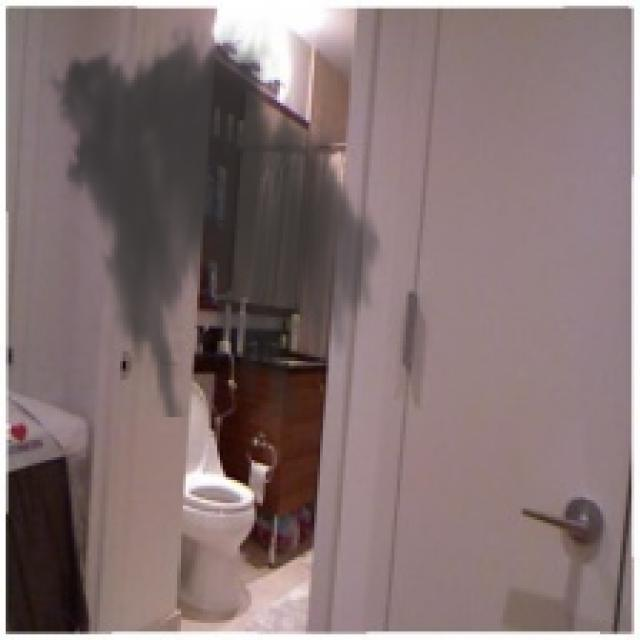Smoke: (39, 17, 392, 417)
